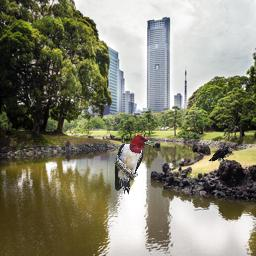Crow: (207, 145, 231, 163)
Woodpecker: (113, 135, 156, 195)
